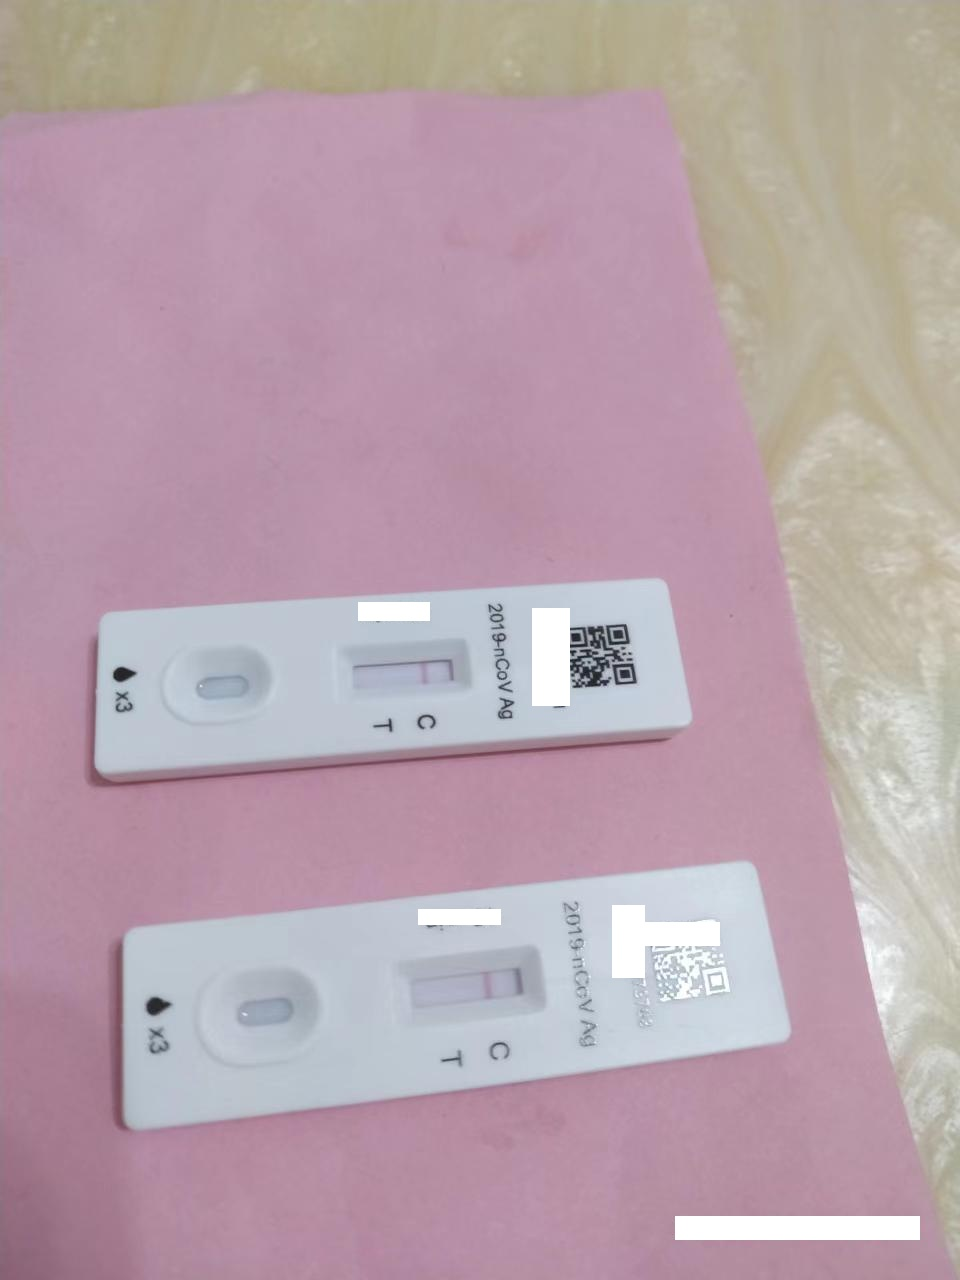negative: (401, 950, 547, 1021), (338, 639, 471, 697)
